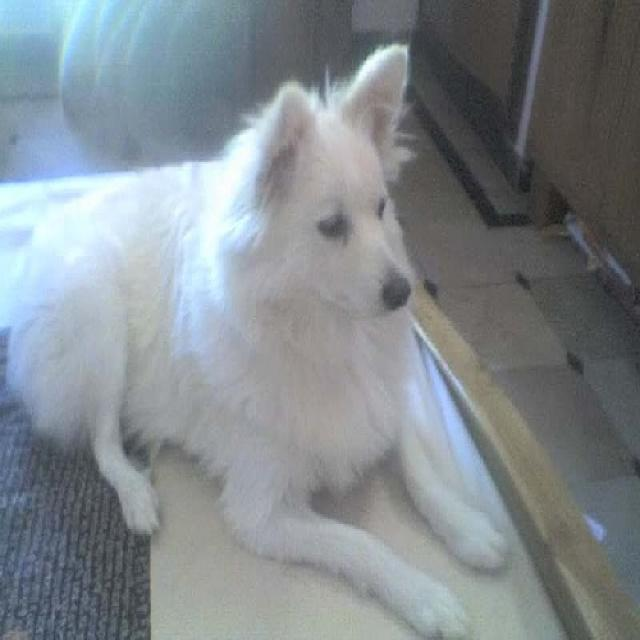dog: (18, 36, 516, 638)
